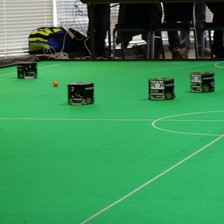ball: (50, 79, 60, 87)
robot: (145, 75, 176, 100), (66, 80, 95, 106), (186, 68, 214, 92), (15, 59, 38, 80)
